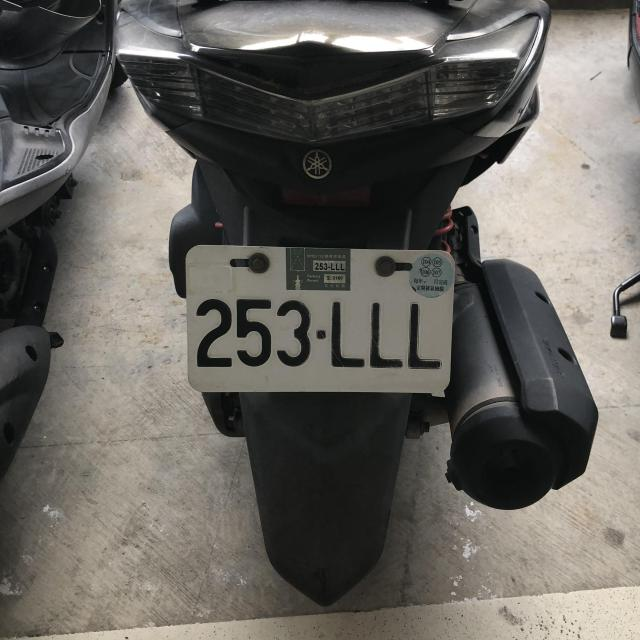W: (186, 246, 451, 390)
